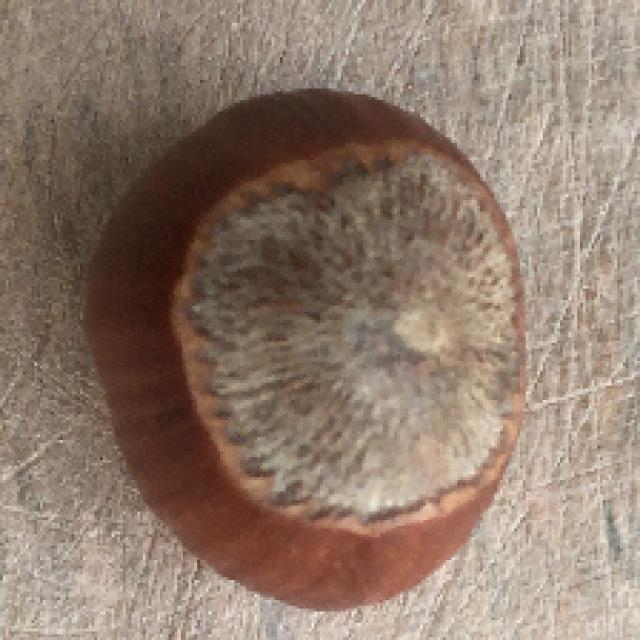DamagedHazelnut: (80, 86, 528, 613)
